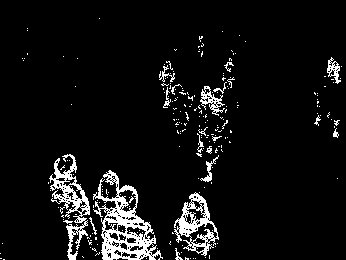person: (52, 154, 96, 257), (110, 188, 159, 260), (201, 89, 232, 183), (175, 193, 218, 257), (160, 61, 176, 105)
